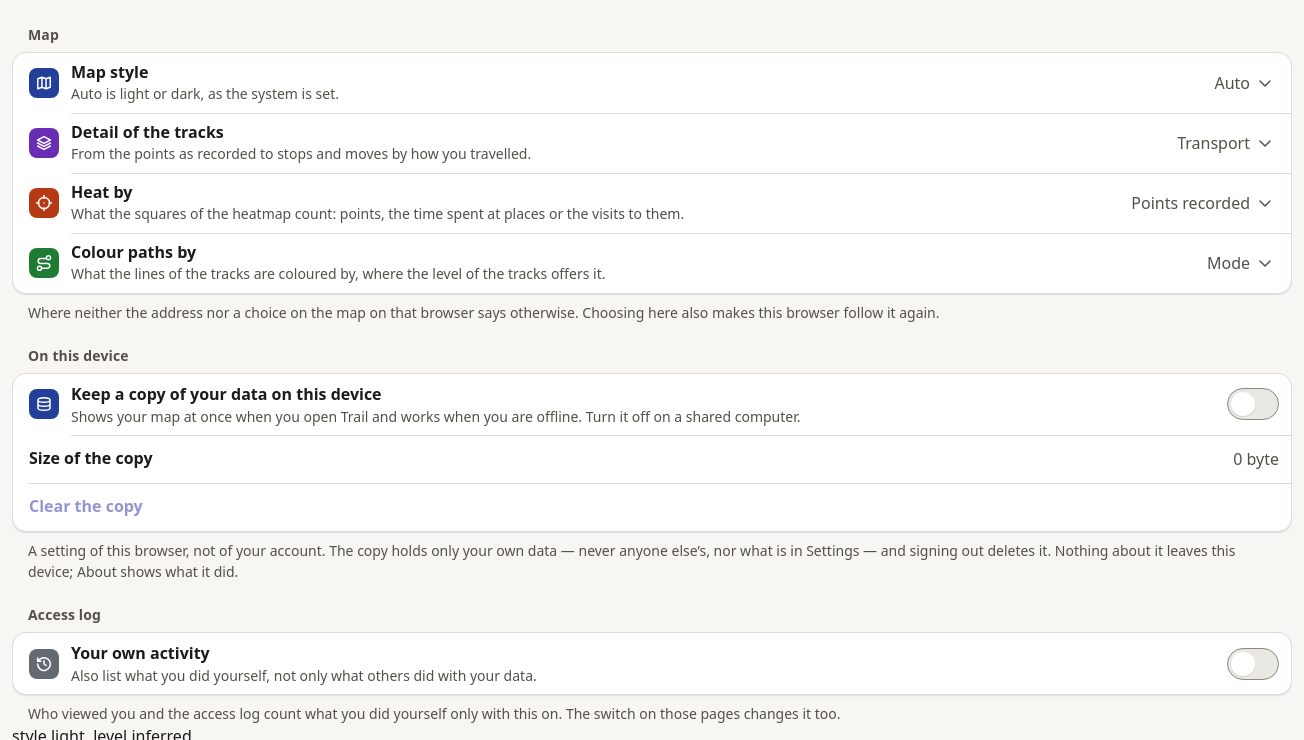
Settings › Preferences › saves a choice at once, says so, and makes this browser follow it again
This screenshot has width=1304, height=740.
Select "Dark" in the dropdown labelled "Map style" at (1240, 83), box [1202,61,1279,105]
(page scrolled)
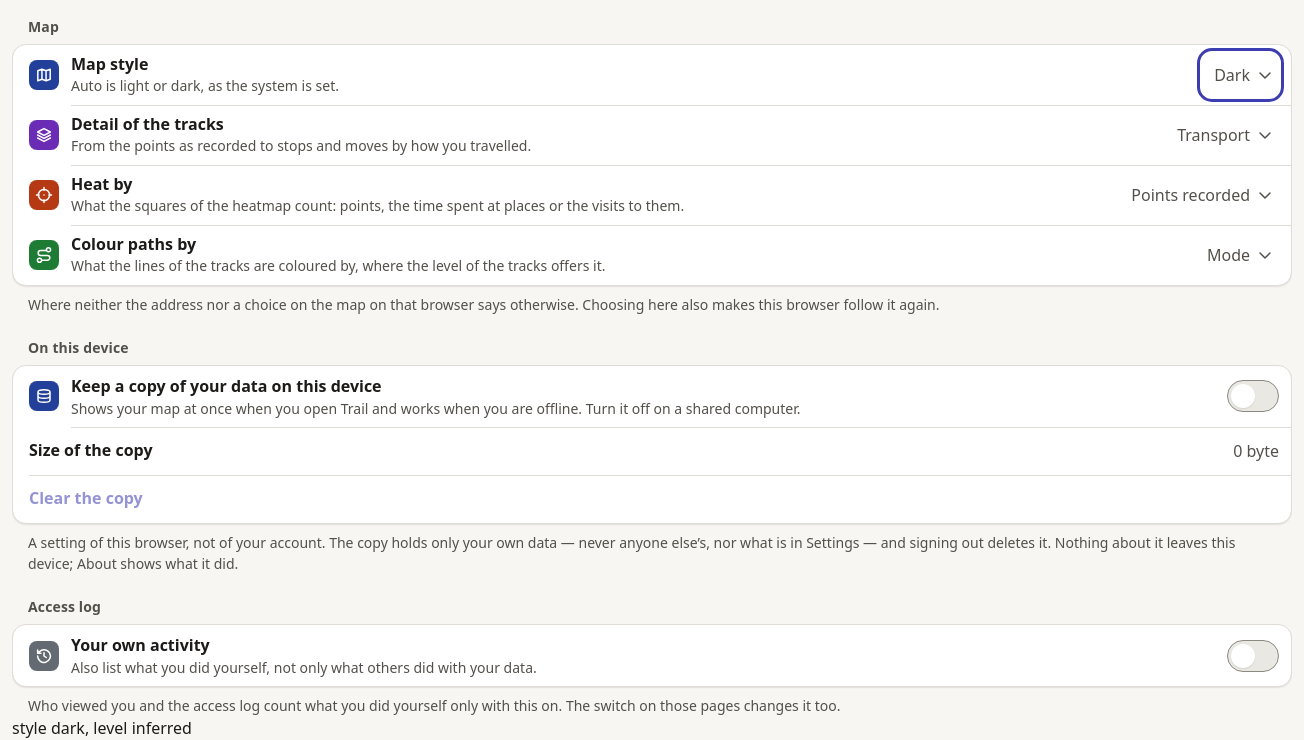
Check: the text "style dark, level inferred" is shown, box [12,717,192,739]
